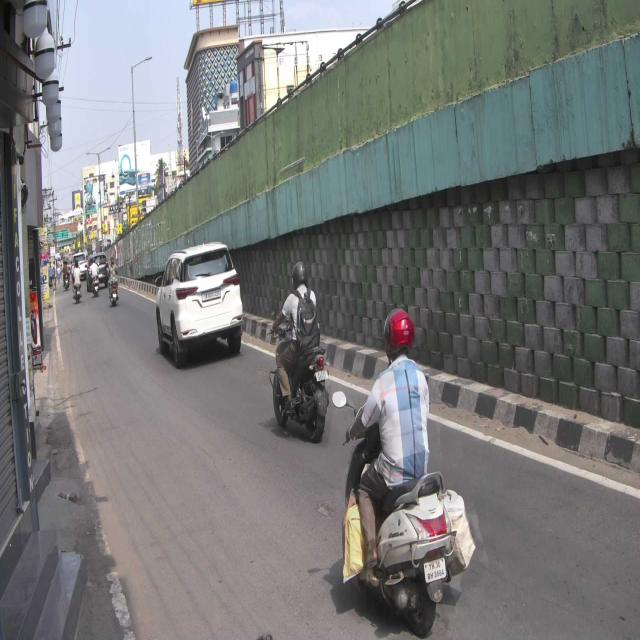single_rider: (342, 305, 458, 640), (268, 261, 332, 449)
